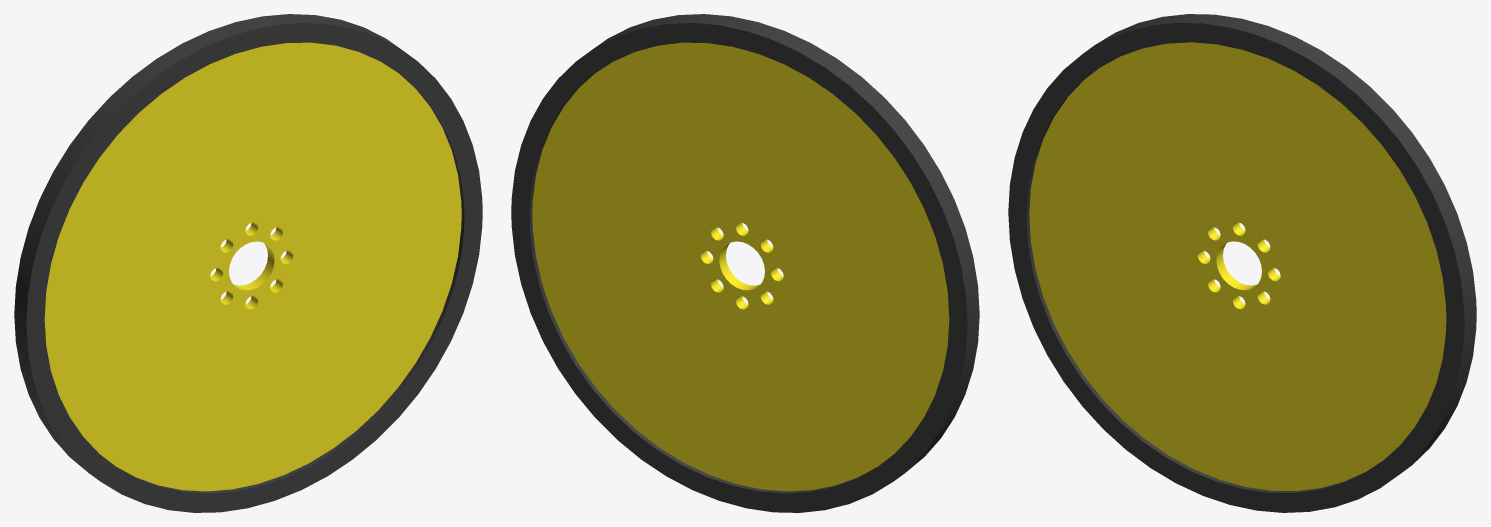
The model's file is ROB-12469.obj.
The picture shows the model from 3 angles, left to right: view 1: azimuth 30°, elevation 25°; view 2: azimuth 150°, elevation 25°; view 3: azimuth 330°, elevation 25°; orthographic projection.
Visible parts, largest first — view 1: mesh 2 Boss-Extrude1, mesh 1 RO; view 2: mesh 2 Boss-Extrude1, mesh 1 RO; view 3: mesh 2 Boss-Extrude1, mesh 1 RO.
Part boxes in pixels (<box>): mesh 2 Boss-Extrude1: <box>44,42,461,491</box>; mesh 1 RO: <box>14,14,482,512</box>; mesh 2 Boss-Extrude1: <box>532,42,949,491</box>; mesh 1 RO: <box>511,14,979,512</box>; mesh 2 Boss-Extrude1: <box>1029,42,1446,490</box>; mesh 1 RO: <box>1008,14,1476,512</box>.
Bounding box in the file's own units: 0.127 × 0.1269 × 0.00584.
